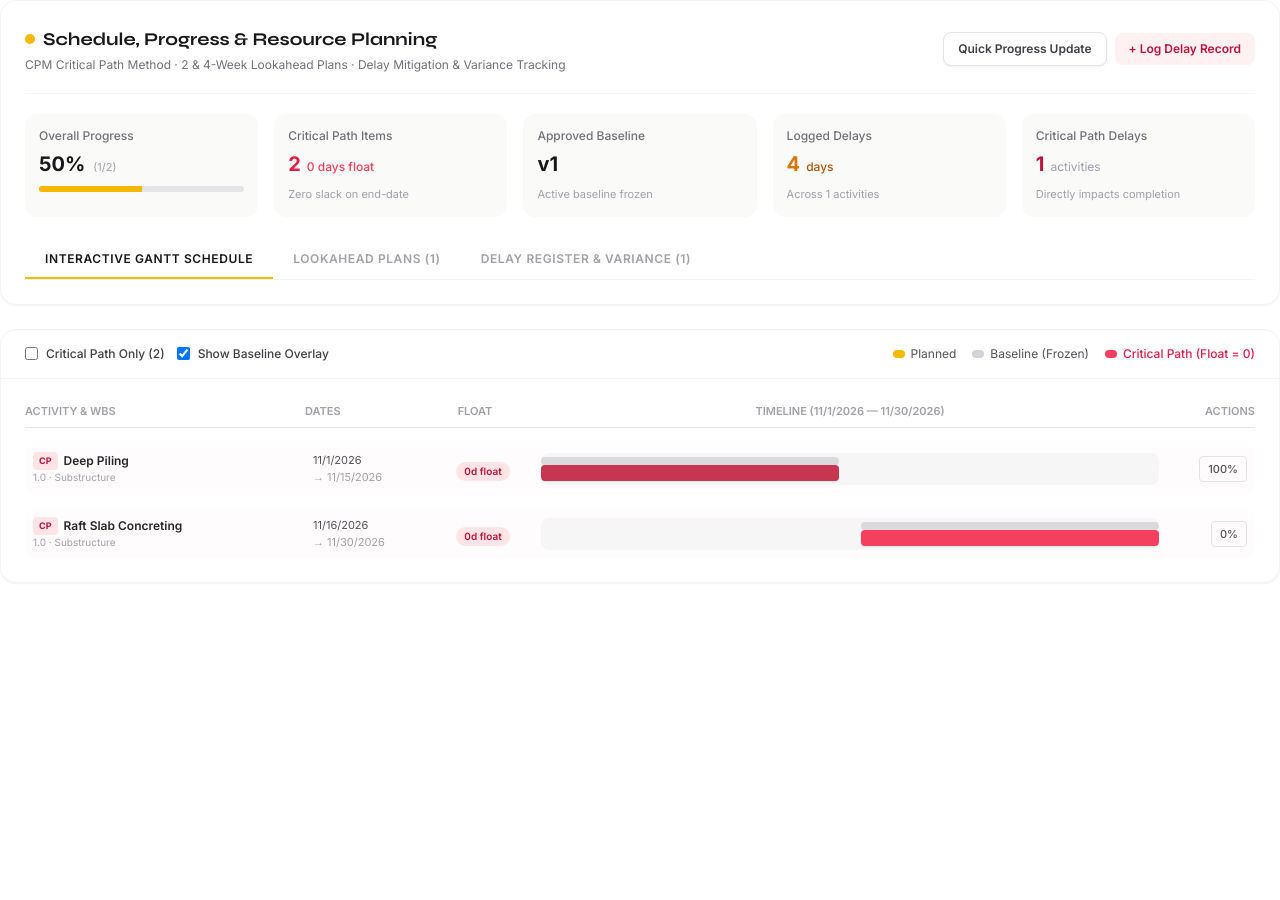
ScheduleGanttSection Component › switches to Delay Register tab and displays logged variance records
Click the button "Delay Register & Variance (1)" at (586, 260), box left=461, top=240, right=711, bottom=278
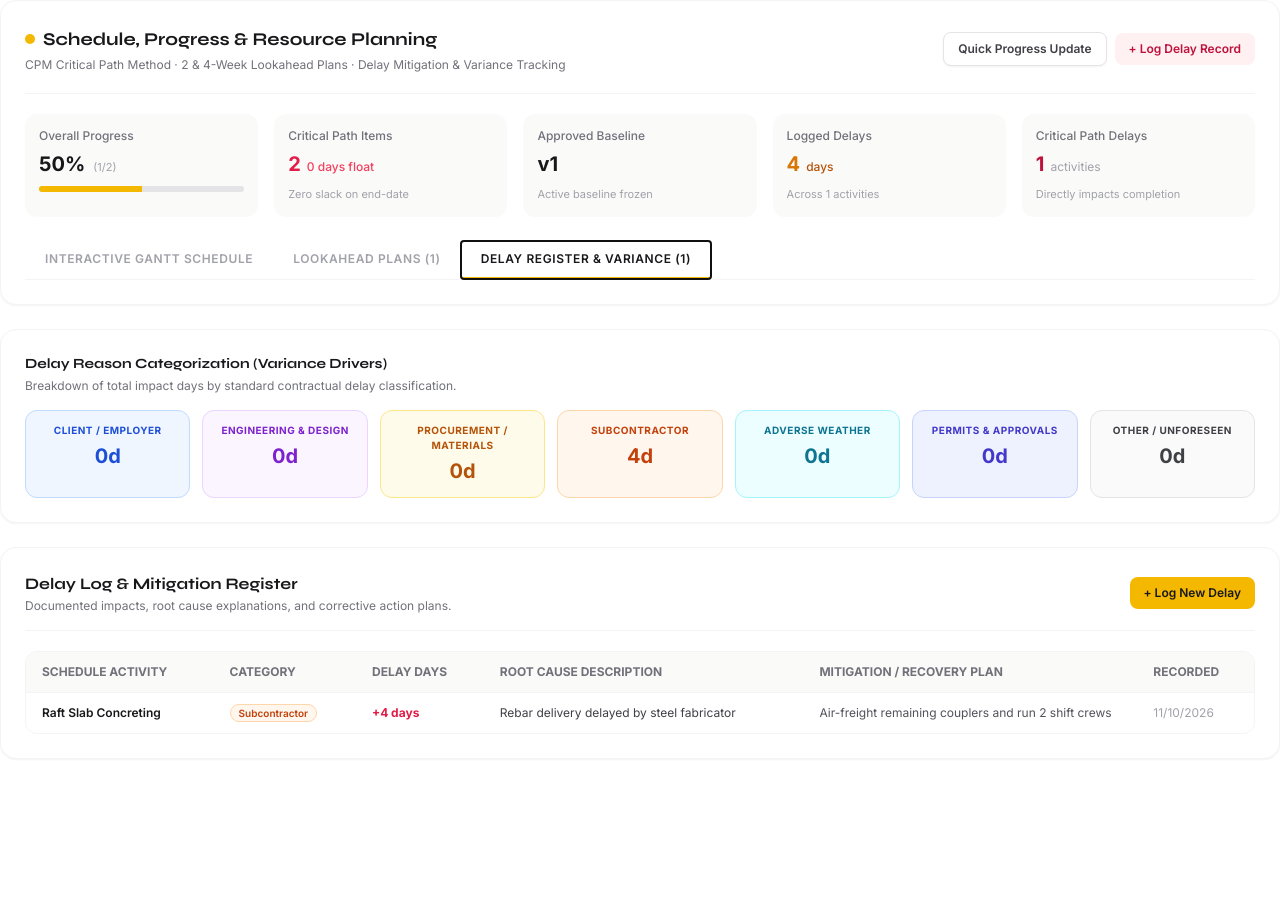
expect the heading "Delay Reason Categorization (Variance Drivers)" is shown: met, box left=25, top=354, right=387, bottom=372
expect the text "Rebar delivery delayed by steel fabricator" is shown: met, box left=484, top=692, right=803, bottom=732
expect the text "+4 days" is shown: met, box left=356, top=692, right=484, bottom=732
